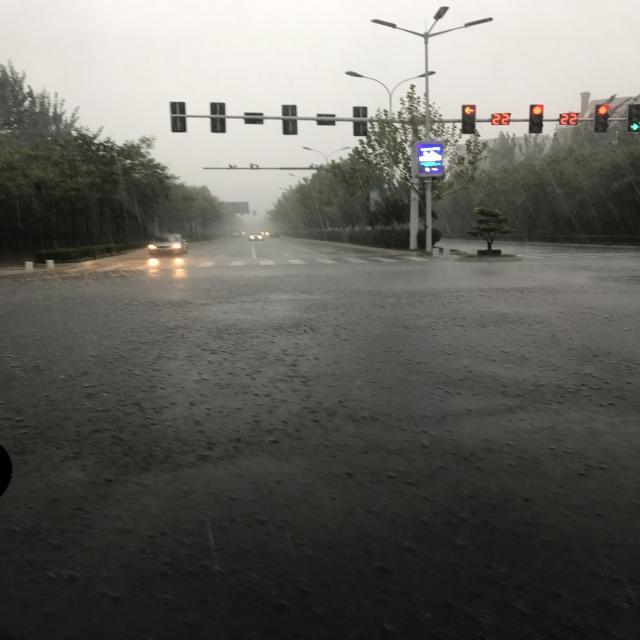car: (233, 450, 256, 496), (233, 374, 240, 392), (234, 357, 239, 369), (233, 401, 238, 412)
